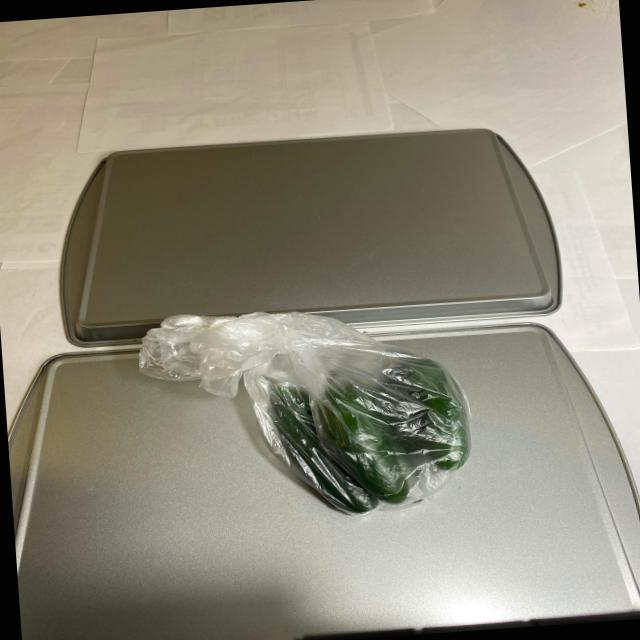chilli: (228, 324, 482, 522)
